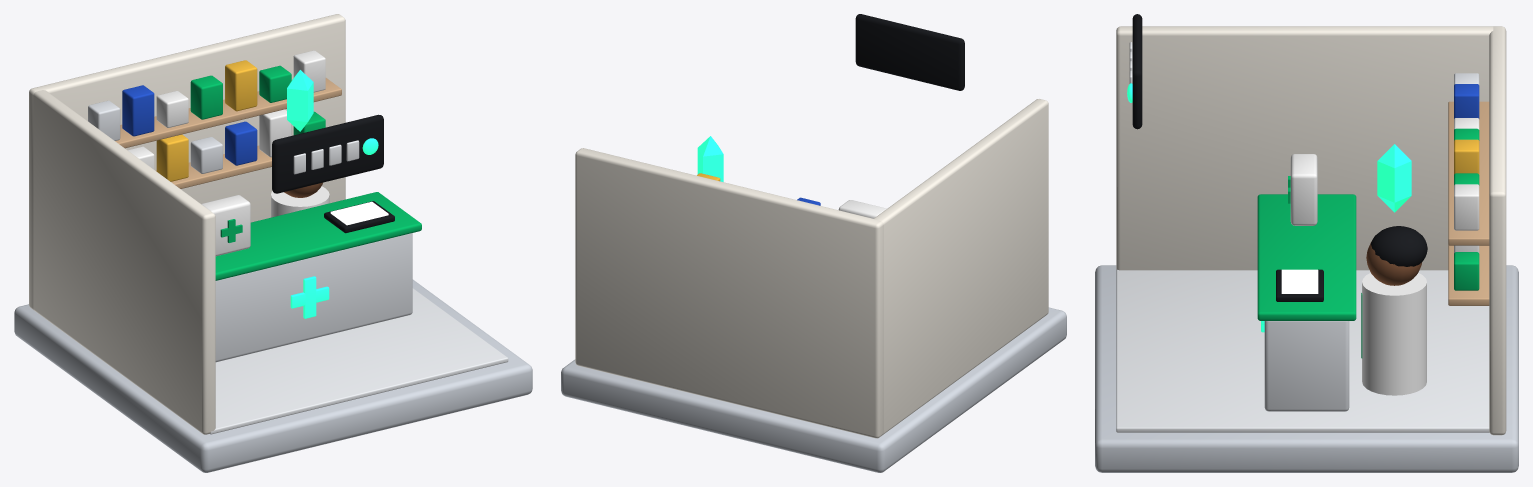
The model's file is tile-counter.glb.
3 views of the same model, side by side, from view 1: azimuth 30°, elevation 25°; view 2: azimuth 150°, elevation 25°; view 3: azimuth 270°, elevation 25° (orthographic). The views are drawn at different scales.
Parts seen in each view (by area): view 1: c_wall_left, Counter_slab, Counter_floor, c_wall_back, c_counter, c_counter_top, c_s3_ticket_body, c_shelf.001, c_s3_bag_body, c_stock.008, c_stock.011, c_stock.002 (+14 smaller); view 2: c_wall_back, c_wall_left, Counter_slab, c_s3_ticket_body, c_s1_plumbob, c_s3_bag_body; view 3: c_wall_left, Counter_floor, Counter_slab, c_counter_top, c_counter, c_pharmacist_body, c_wall_back, c_shelf.001, c_s3_bag_body, c_s1_plumbob, c_pharmacist_hair, c_shelf (+8 smaller).
Boxes of the visible parts, x1=… form: c_wall_left: x1=33, y1=90, x2=215, y2=434; Counter_slab: x1=14, y1=279, x2=532, y2=472; Counter_floor: x1=210, y1=288, x2=508, y2=434; c_wall_back: x1=29, y1=14, x2=345, y2=309; c_counter: x1=215, y1=233, x2=412, y2=362; c_counter_top: x1=215, y1=192, x2=421, y2=280; c_s3_ticket_body: x1=272, y1=114, x2=383, y2=193; c_shelf.001: x1=115, y1=78, x2=341, y2=148; c_s3_bag_body: x1=201, y1=195, x2=250, y2=256; c_stock.008: x1=122, y1=85, x2=154, y2=136; c_stock.011: x1=225, y1=60, x2=257, y2=111; c_stock.002: x1=156, y1=134, x2=188, y2=181; c_wall_back: x1=575, y1=148, x2=883, y2=438; c_wall_left: x1=874, y1=99, x2=1048, y2=434; Counter_slab: x1=561, y1=307, x2=1066, y2=472; c_s3_ticket_body: x1=855, y1=14, x2=964, y2=90; c_s1_plumbob: x1=697, y1=136, x2=723, y2=181; c_s3_bag_body: x1=838, y1=200, x2=886, y2=218; c_wall_left: x1=1116, y1=26, x2=1493, y2=270; Counter_floor: x1=1116, y1=269, x2=1489, y2=432; Counter_slab: x1=1095, y1=265, x2=1518, y2=472; c_counter_top: x1=1257, y1=194, x2=1356, y2=320; c_counter: x1=1264, y1=321, x2=1349, y2=411; c_pharmacist_body: x1=1362, y1=273, x2=1426, y2=395; c_wall_back: x1=1489, y1=26, x2=1506, y2=435; c_shelf.001: x1=1448, y1=101, x2=1489, y2=245; c_s3_bag_body: x1=1290, y1=154, x2=1317, y2=225; c_s1_plumbob: x1=1377, y1=144, x2=1411, y2=212; c_pharmacist_hair: x1=1371, y1=226, x2=1427, y2=266; c_shelf: x1=1448, y1=245, x2=1489, y2=305.
Size of the model in its own units: 3 by 2.59 by 3.
